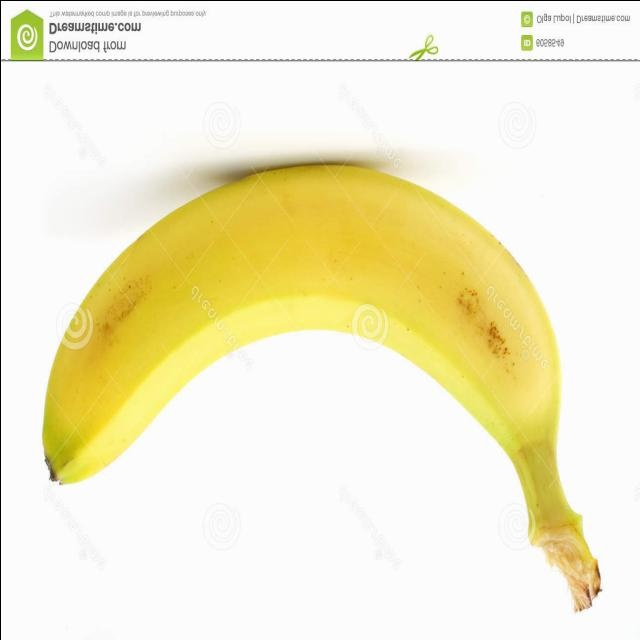agrume: (47, 158, 599, 614)
